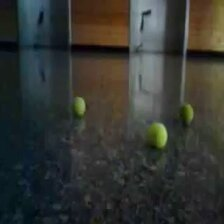tennis: (146, 121, 167, 148), (177, 104, 195, 125), (70, 97, 86, 116)
